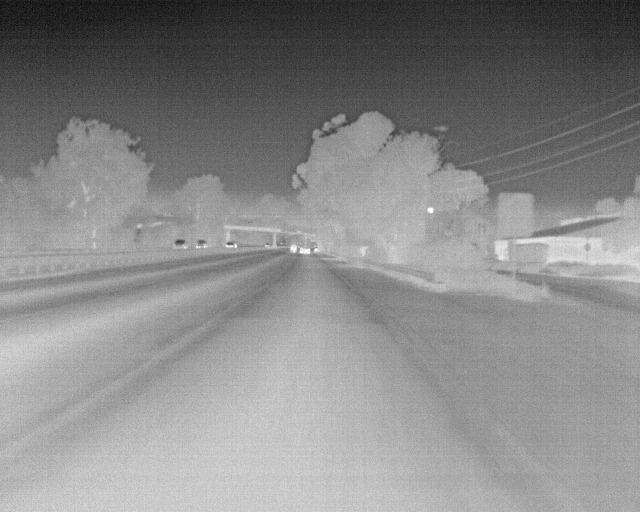car: (170, 235, 191, 252), (222, 238, 240, 250), (298, 243, 313, 256), (195, 237, 210, 249)
